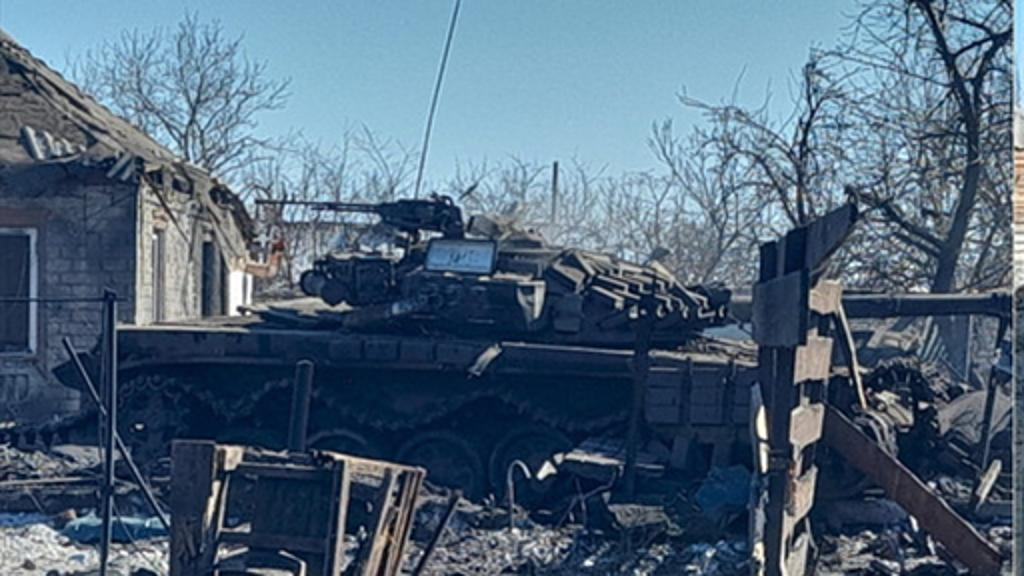TANK: (68, 190, 1008, 514)
